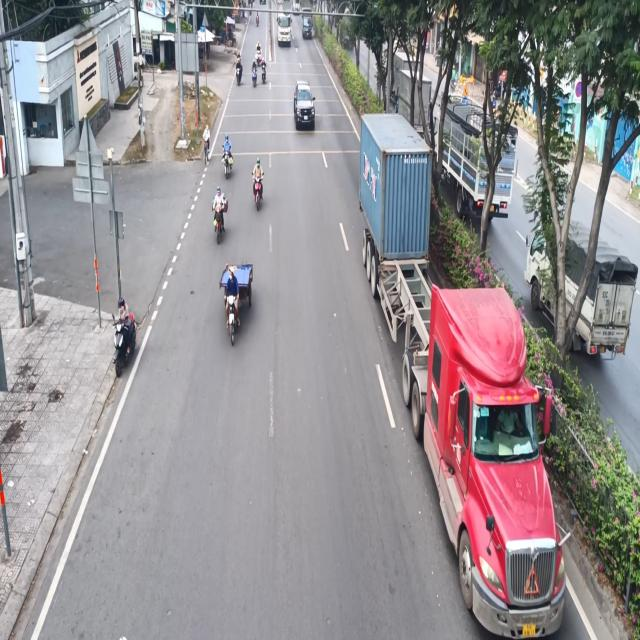car: (293, 80, 316, 134)
motor: (108, 291, 140, 378), (225, 266, 239, 341), (212, 182, 227, 242), (251, 154, 264, 211), (223, 133, 233, 178)
truck: (359, 104, 567, 640)
